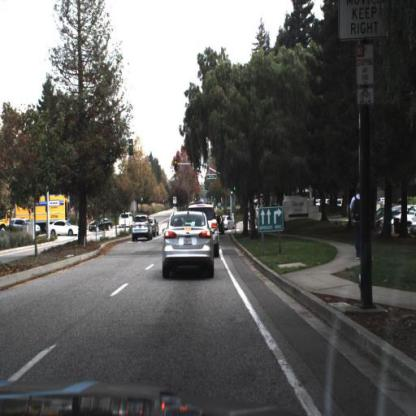car: (161, 207, 215, 278), (132, 212, 154, 242), (51, 221, 82, 239), (205, 202, 219, 240), (132, 217, 153, 241), (12, 218, 41, 233), (117, 213, 135, 231), (91, 218, 113, 232), (89, 219, 112, 232), (224, 214, 238, 233), (119, 212, 133, 228), (152, 217, 160, 238), (218, 214, 224, 233)
pedestrian: (351, 186, 362, 263)
trafficLight: (173, 158, 178, 173)
trafficLight-Green: (196, 159, 201, 175), (230, 187, 235, 197)
trafficLight-RedLeft: (174, 159, 181, 175)
truck: (1, 193, 69, 231)
